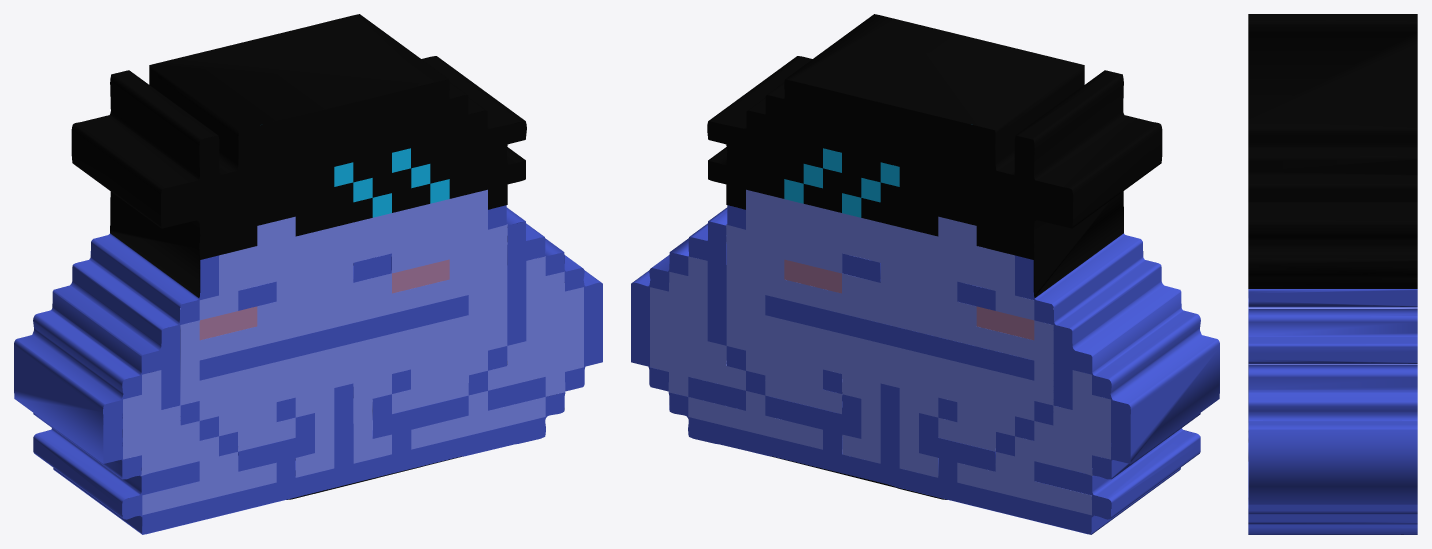
File: Toadz_1346.glb
The picture shows the model from 3 angles, left to right: view 1: azimuth 30°, elevation 25°; view 2: azimuth 150°, elevation 25°; view 3: azimuth 270°, elevation 25°; orthographic projection. The views are drawn at different scales.
Visible parts, largest first — view 1: Curve; view 2: Curve; view 3: Curve.
Boxes of the visible parts, <box> form: Curve: <box>14,14,602,534</box>; Curve: <box>631,14,1219,534</box>; Curve: <box>1248,14,1417,534</box>.
Bounding box in the file's own units: 3.24 × 2.36 × 1.
